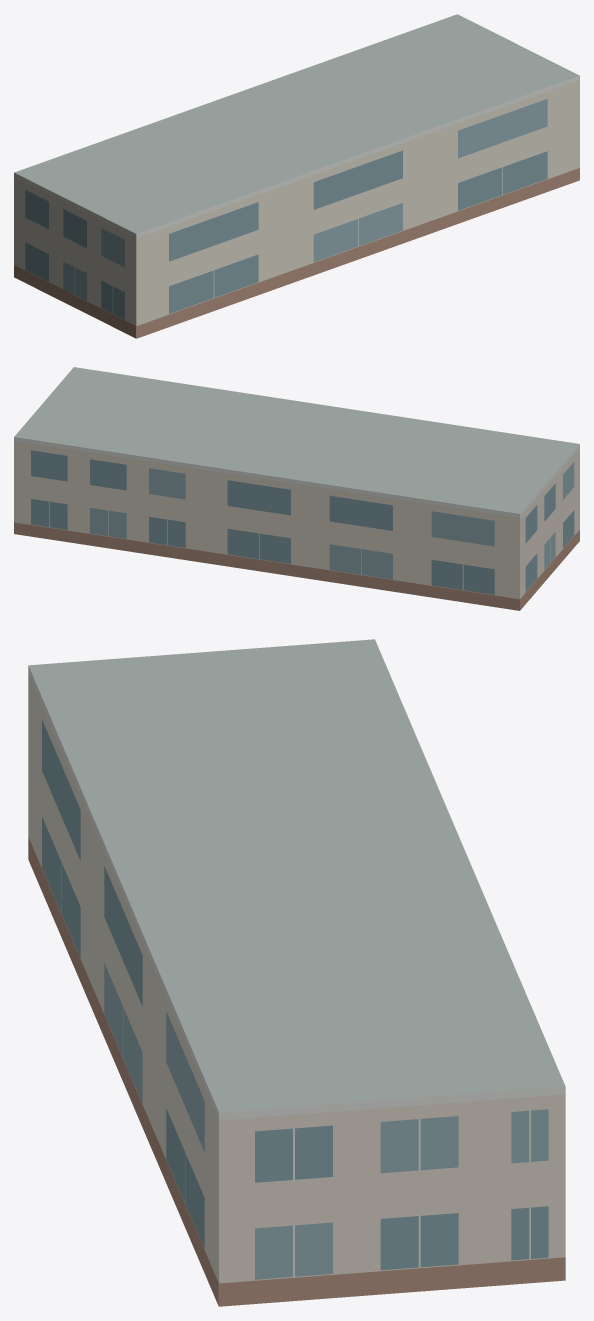
Rendered from survey-upis-32707661.glb.
The picture shows the model from 3 angles, top to bottom: view 1: azimuth 30°, elevation 25°; view 2: azimuth 150°, elevation 25°; view 3: azimuth 270°, elevation 25°; orthographic projection. The views are drawn at different scales.
Parts seen in each view (by area): view 1: survey-upis-32707661.tmp; view 2: survey-upis-32707661.tmp; view 3: survey-upis-32707661.tmp.
Boxes of the visible parts, x1=… form: survey-upis-32707661.tmp: x1=14, y1=14, x2=579, y2=338; survey-upis-32707661.tmp: x1=14, y1=367, x2=579, y2=610; survey-upis-32707661.tmp: x1=28, y1=639, x2=565, y2=1306.
Bounding box in the file's own units: 31.93 × 6.1 × 15.32.
